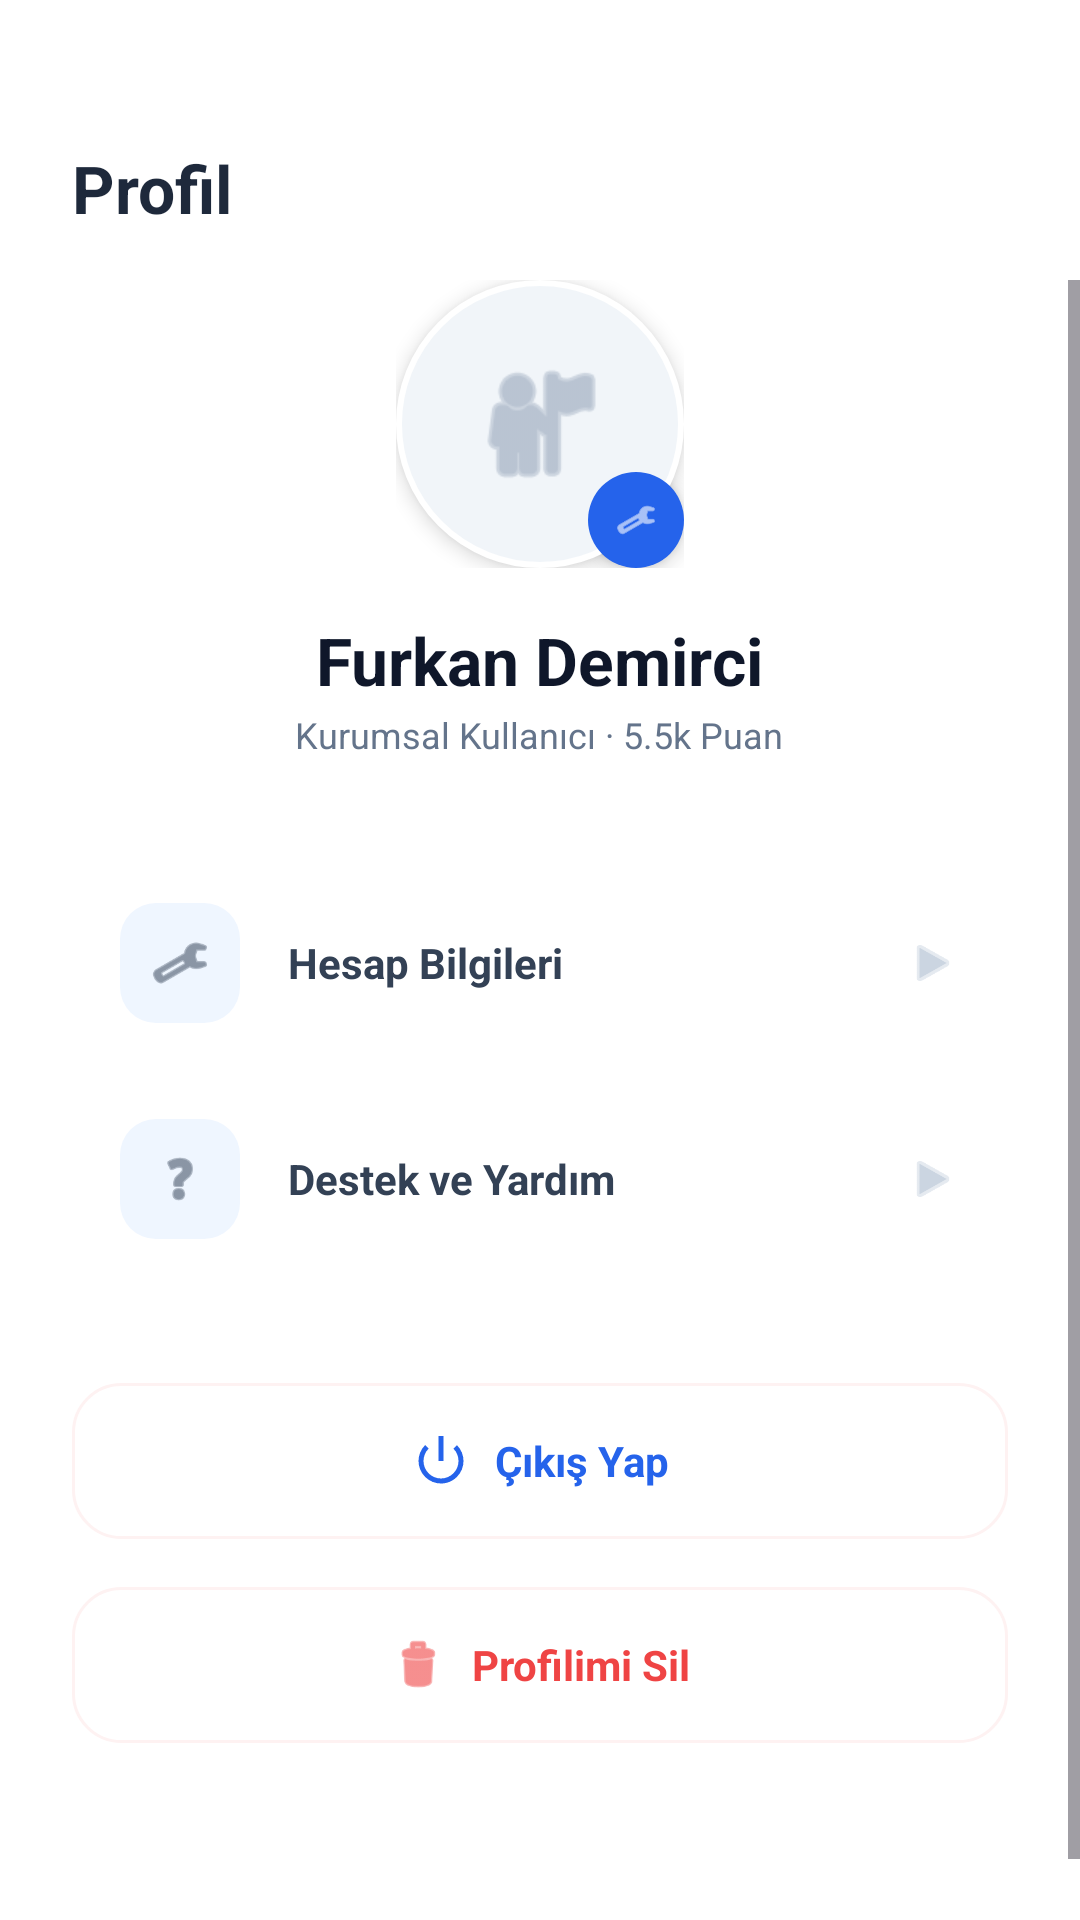

Icon click points for this 1080 x 1920 phone screenshot, format [x,y]:
delete: [418,1664]
help: [180,1179]
lock power off: [441,1460]
myplaces: [541,424]
play: [933,963], [933,1179]
preferences: [636,520], [180,963]
